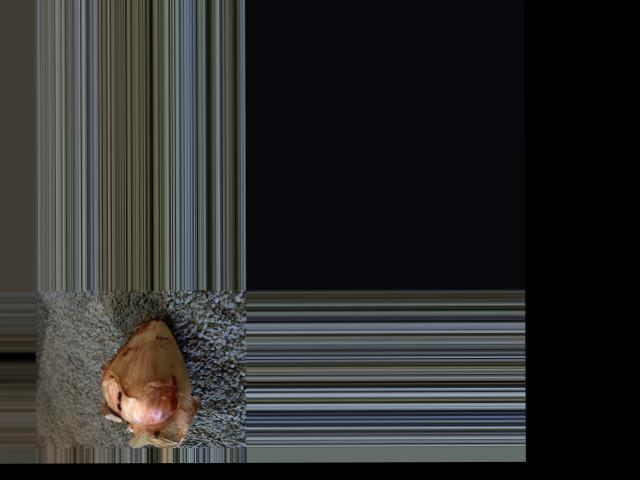onion: (100, 316, 185, 421)
